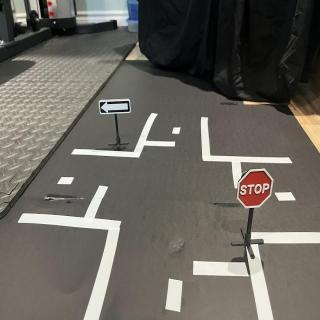sign_oneway_left: (100, 101, 132, 116)
sign_stop: (238, 170, 275, 210)
